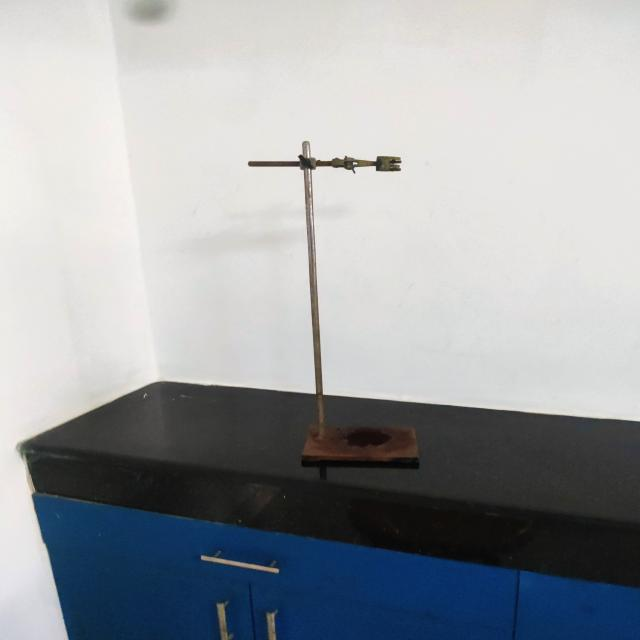Burette_Stands: (222, 132, 440, 477)
